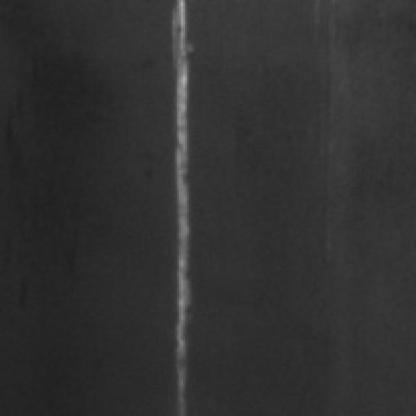scratches: (162, 0, 200, 412)
